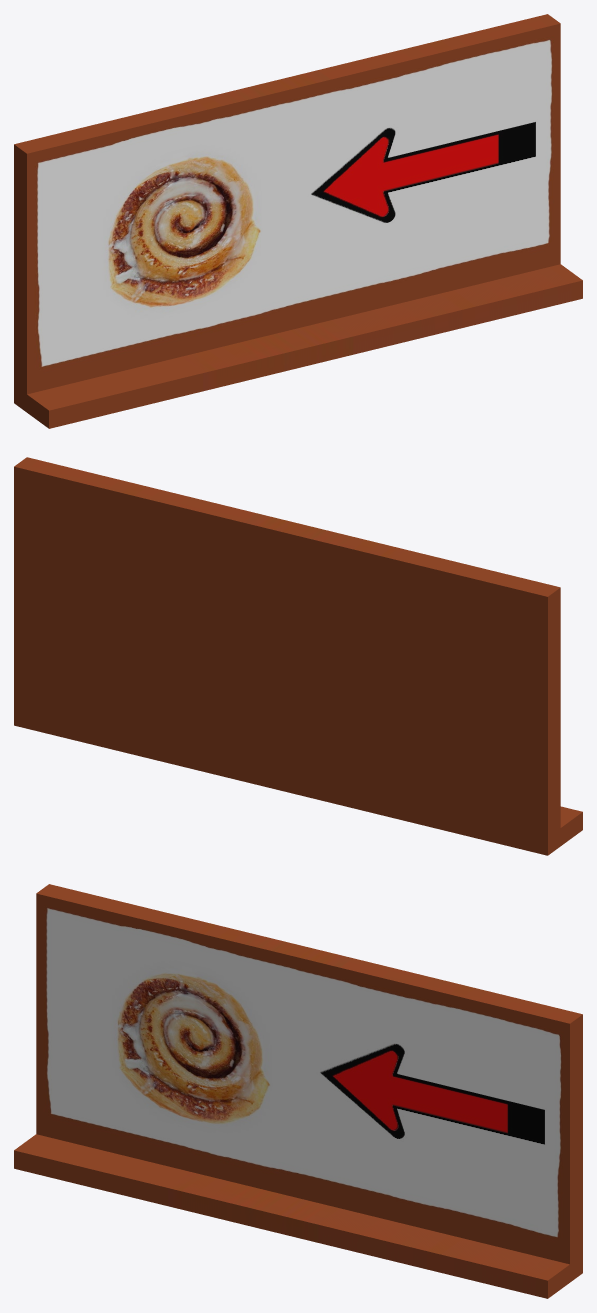
The model's file is Billboard Textured.FBX.
3 views of the same model, one above another, from view 1: azimuth 30°, elevation 25°; view 2: azimuth 150°, elevation 25°; view 3: azimuth 330°, elevation 25° (orthographic).
Parts seen in each view (by area): view 1: Box001; view 2: Box001; view 3: Box001.
Boxes of the visible parts, <box> form: Box001: <box>14,14,582,428</box>; Box001: <box>14,457,582,855</box>; Box001: <box>14,884,582,1298</box>.
Bounding box in the file's own units: 107 × 49.38 × 12.15.
1 material, 1 textured.
